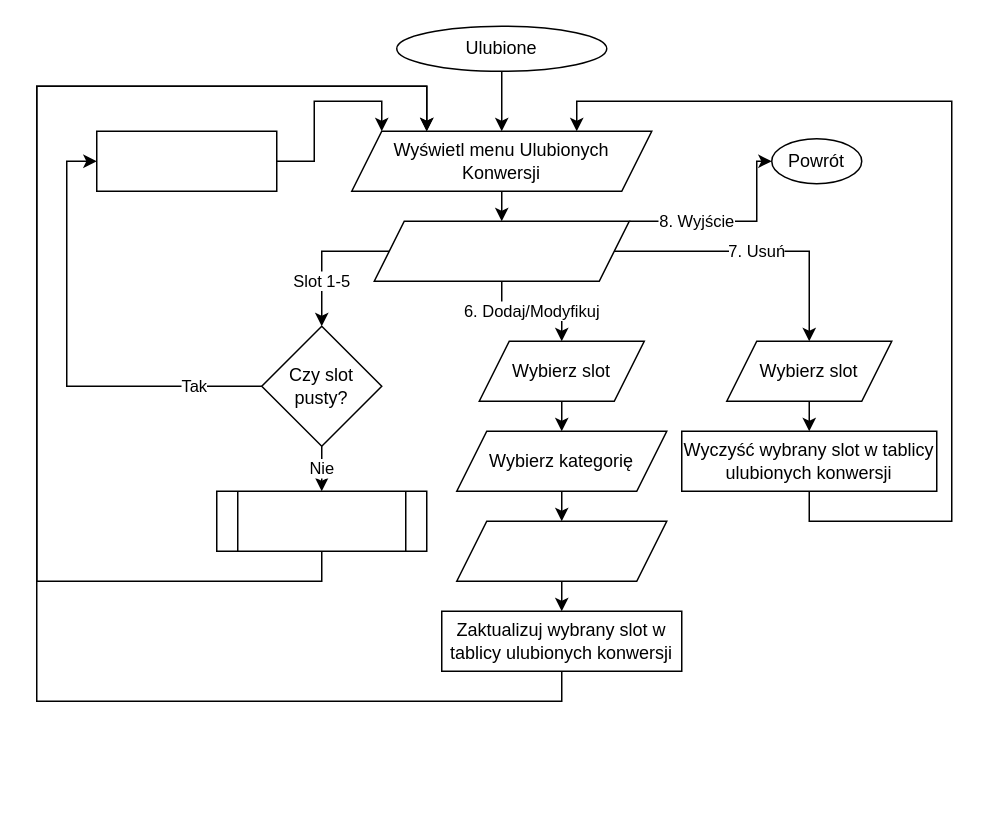
Image size: 990x815. Some labels were removed from this diagram. The box of each missing label's shape, as (x1, y1, x2, y2) in pixels:
Beep: (95, 130, 277, 191)
Wybierz jednostkę: (455, 520, 667, 581)
Wybierz opcję menu: (373, 220, 629, 281)
Wykonaj wybraną konwersję: (215, 490, 427, 551)
